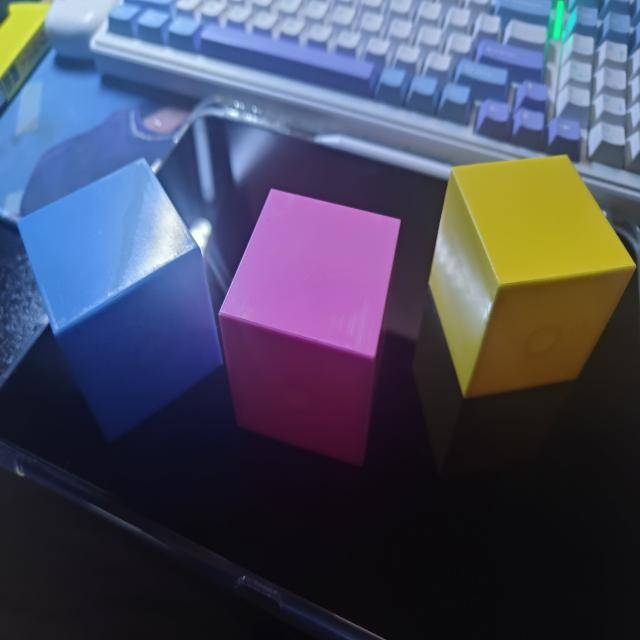blue: (16, 156, 224, 438)
pink: (218, 184, 402, 467)
yellow: (427, 151, 636, 396)
